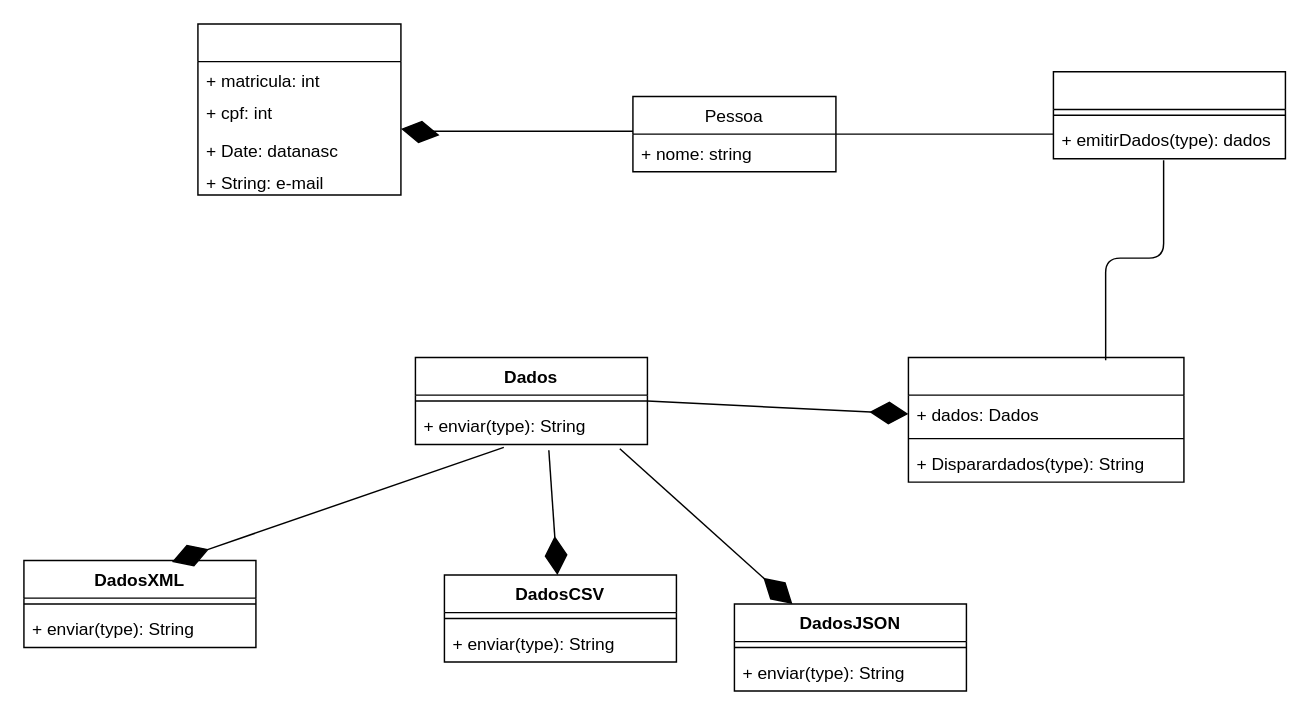
Image size: 1309x715. Some labels were removed from this diagram. The shapes that lost their labels are listed below. From the top down, each one's box as (x1, y1, x2, y2) in pixels, then its label:
(196, 22, 401, 195): Aluno
(1052, 70, 1285, 159): main
(907, 356, 1184, 482): EmitirDados
